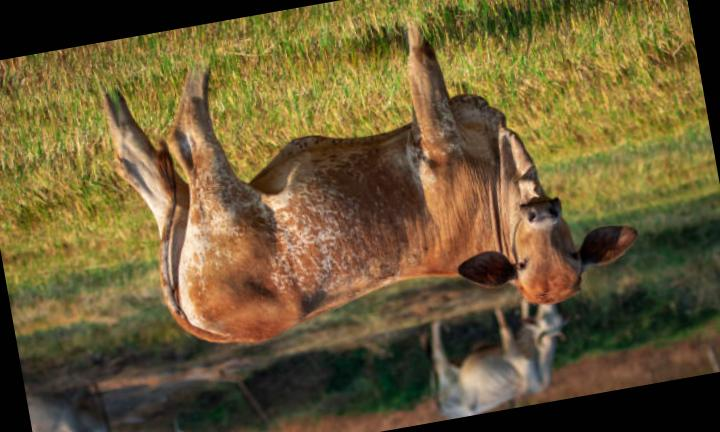Brahman: (106, 27, 637, 343)
